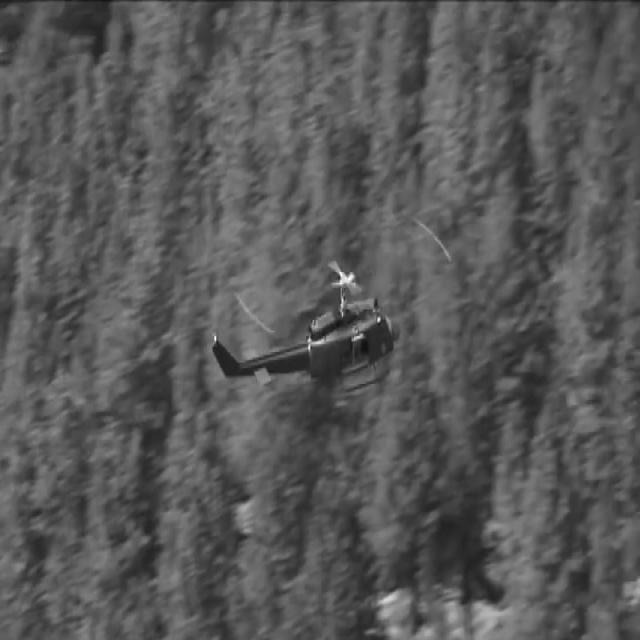helikopter: (200, 264, 410, 414)
